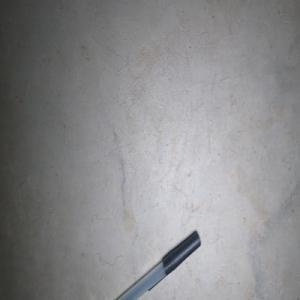Pen: (116, 231, 200, 300)
